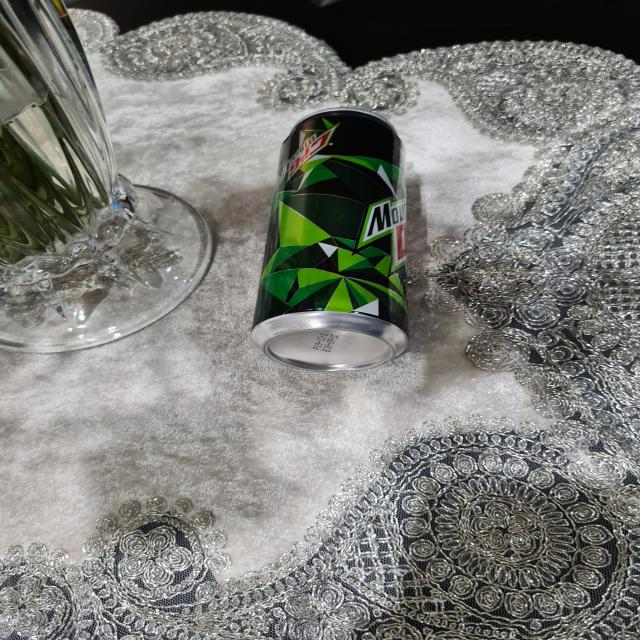non-organic waste: (252, 108, 414, 375)
